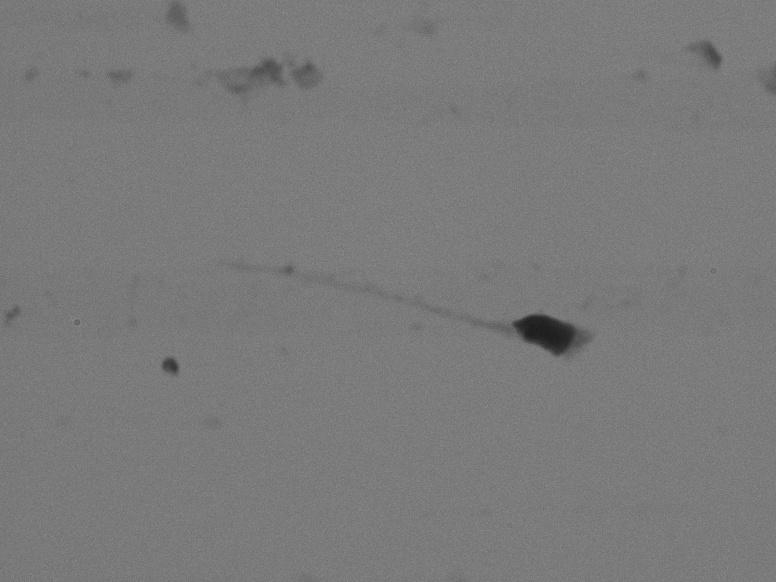Abnormal: (113, 248, 626, 400)
